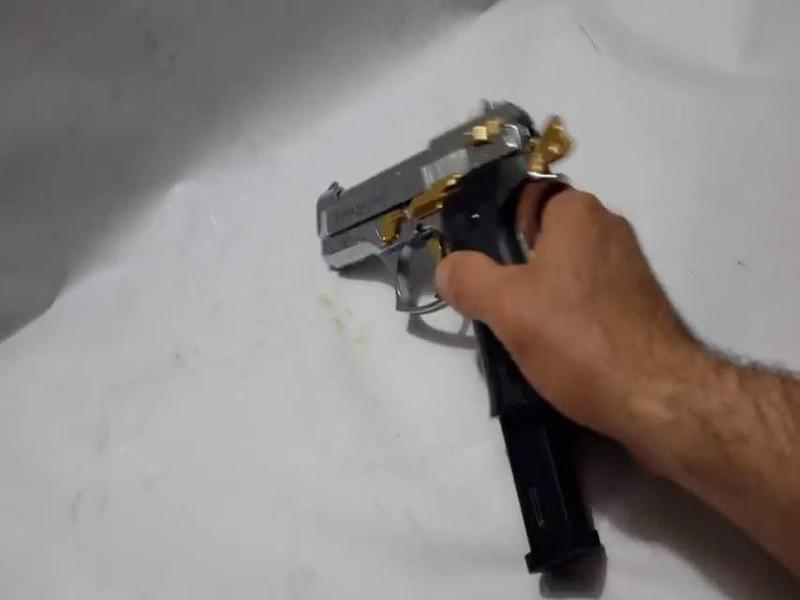Pistola: (290, 144, 593, 413)
